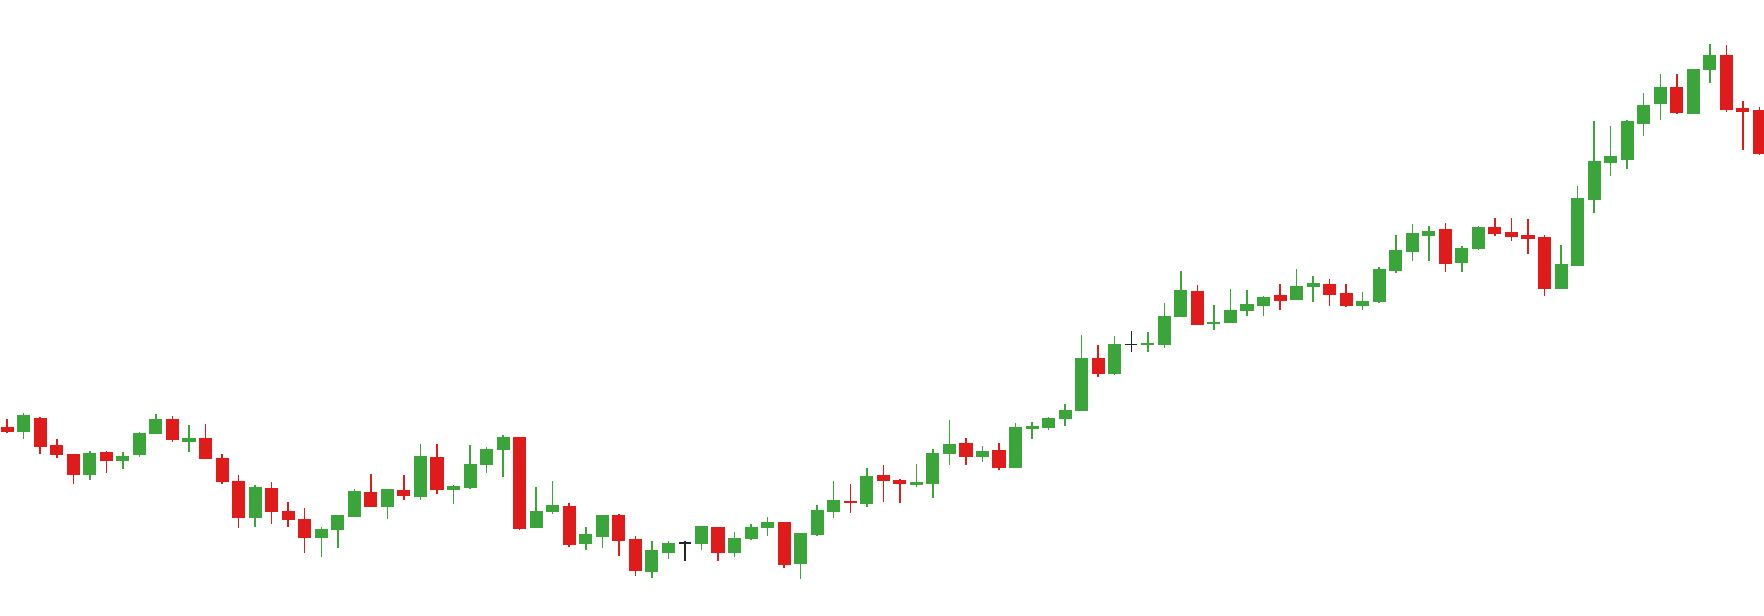buy: (1435, 232, 1570, 295)
